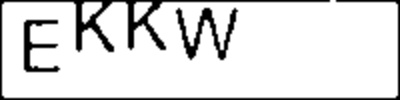E: (19, 14, 65, 77)
K: (73, 1, 117, 56), (124, 1, 168, 54)
W: (172, 4, 243, 63)
